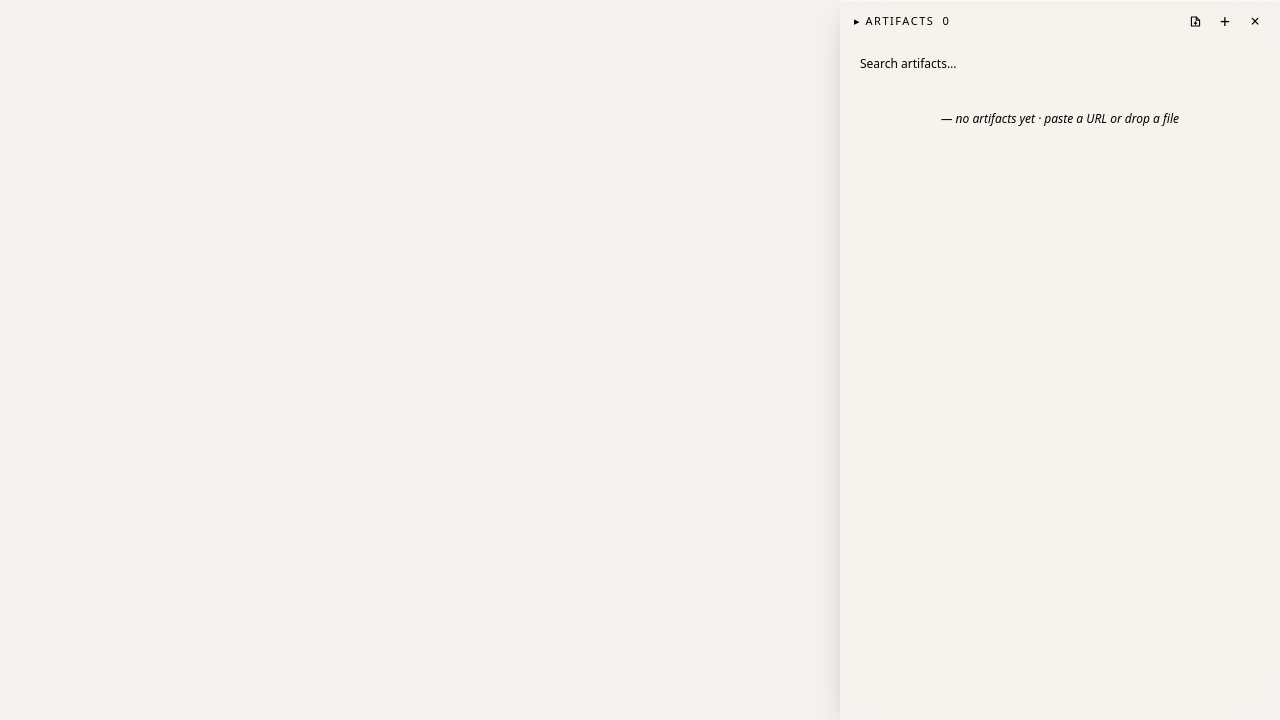
Test: ArtifactsDrawer + button › reveals the paste bar when + is clicked
Click the button titled "Add link or paste text" at (1225, 21), box left=1214, top=10, right=1236, bottom=32
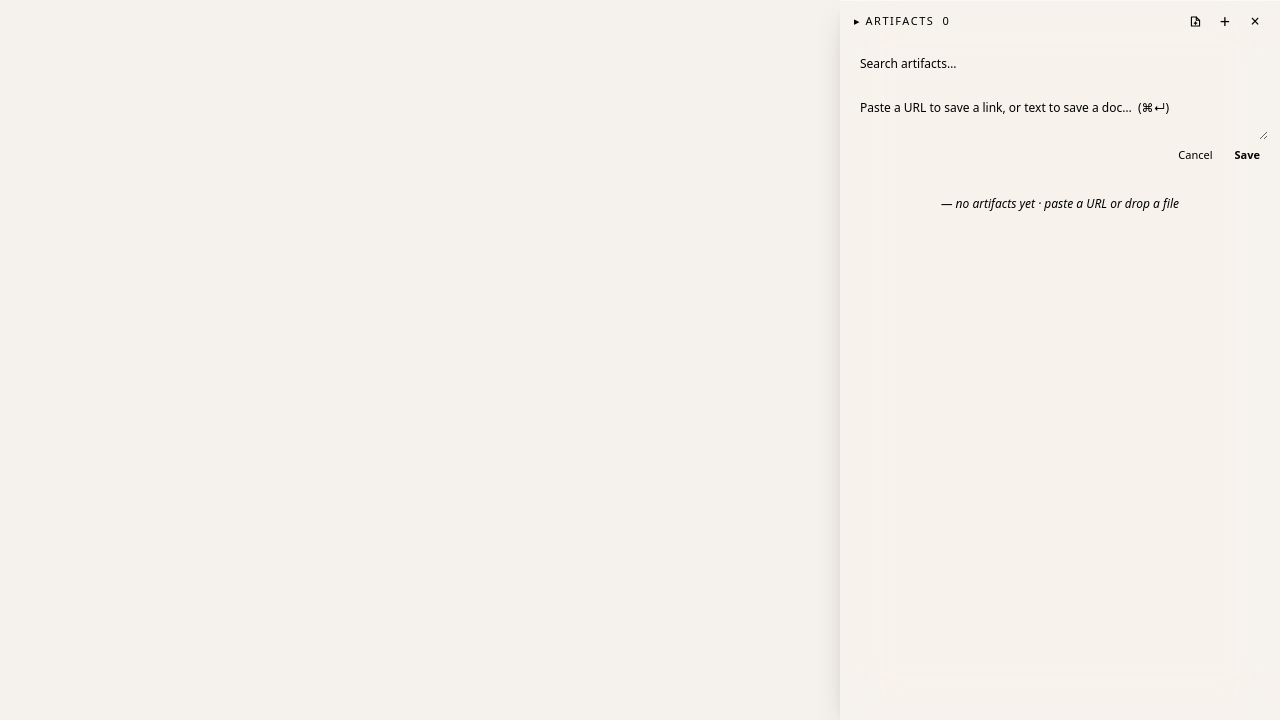
Expected: the text box with placeholder "Paste a URL to save a link, or text to save a doc… (⌘↵)" is shown, left=852, top=94, right=1268, bottom=140
